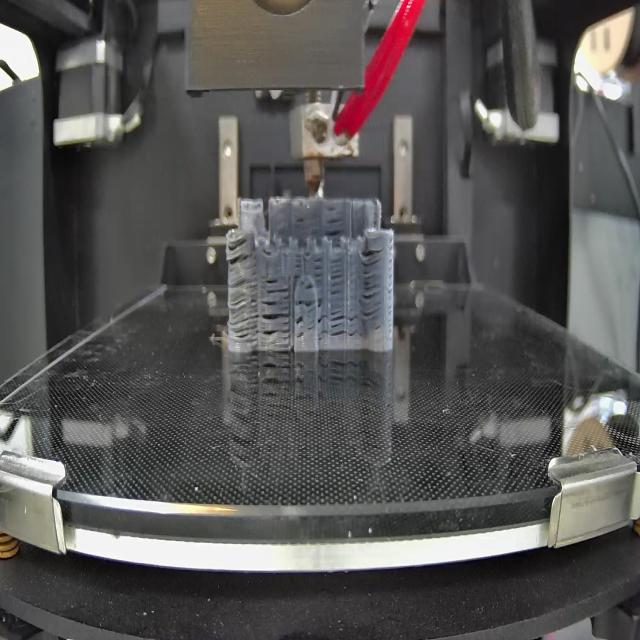cracks: (227, 280, 259, 342), (362, 245, 382, 317), (261, 300, 290, 342), (227, 237, 254, 264), (264, 275, 292, 299), (329, 258, 344, 298), (317, 296, 327, 342), (348, 308, 361, 341), (331, 311, 346, 338), (326, 218, 343, 235), (296, 314, 306, 342), (293, 254, 304, 279), (296, 296, 315, 310), (312, 257, 324, 279), (297, 214, 316, 224), (303, 282, 315, 291), (326, 207, 339, 213)
